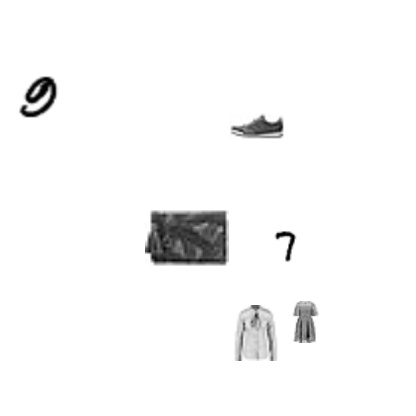7: (266, 221, 308, 263)
9: (12, 67, 68, 123)
Bag: (145, 196, 229, 280)
Dress: (284, 301, 326, 343)
Shirt: (227, 305, 283, 361)
Sneaker: (229, 98, 285, 154)
